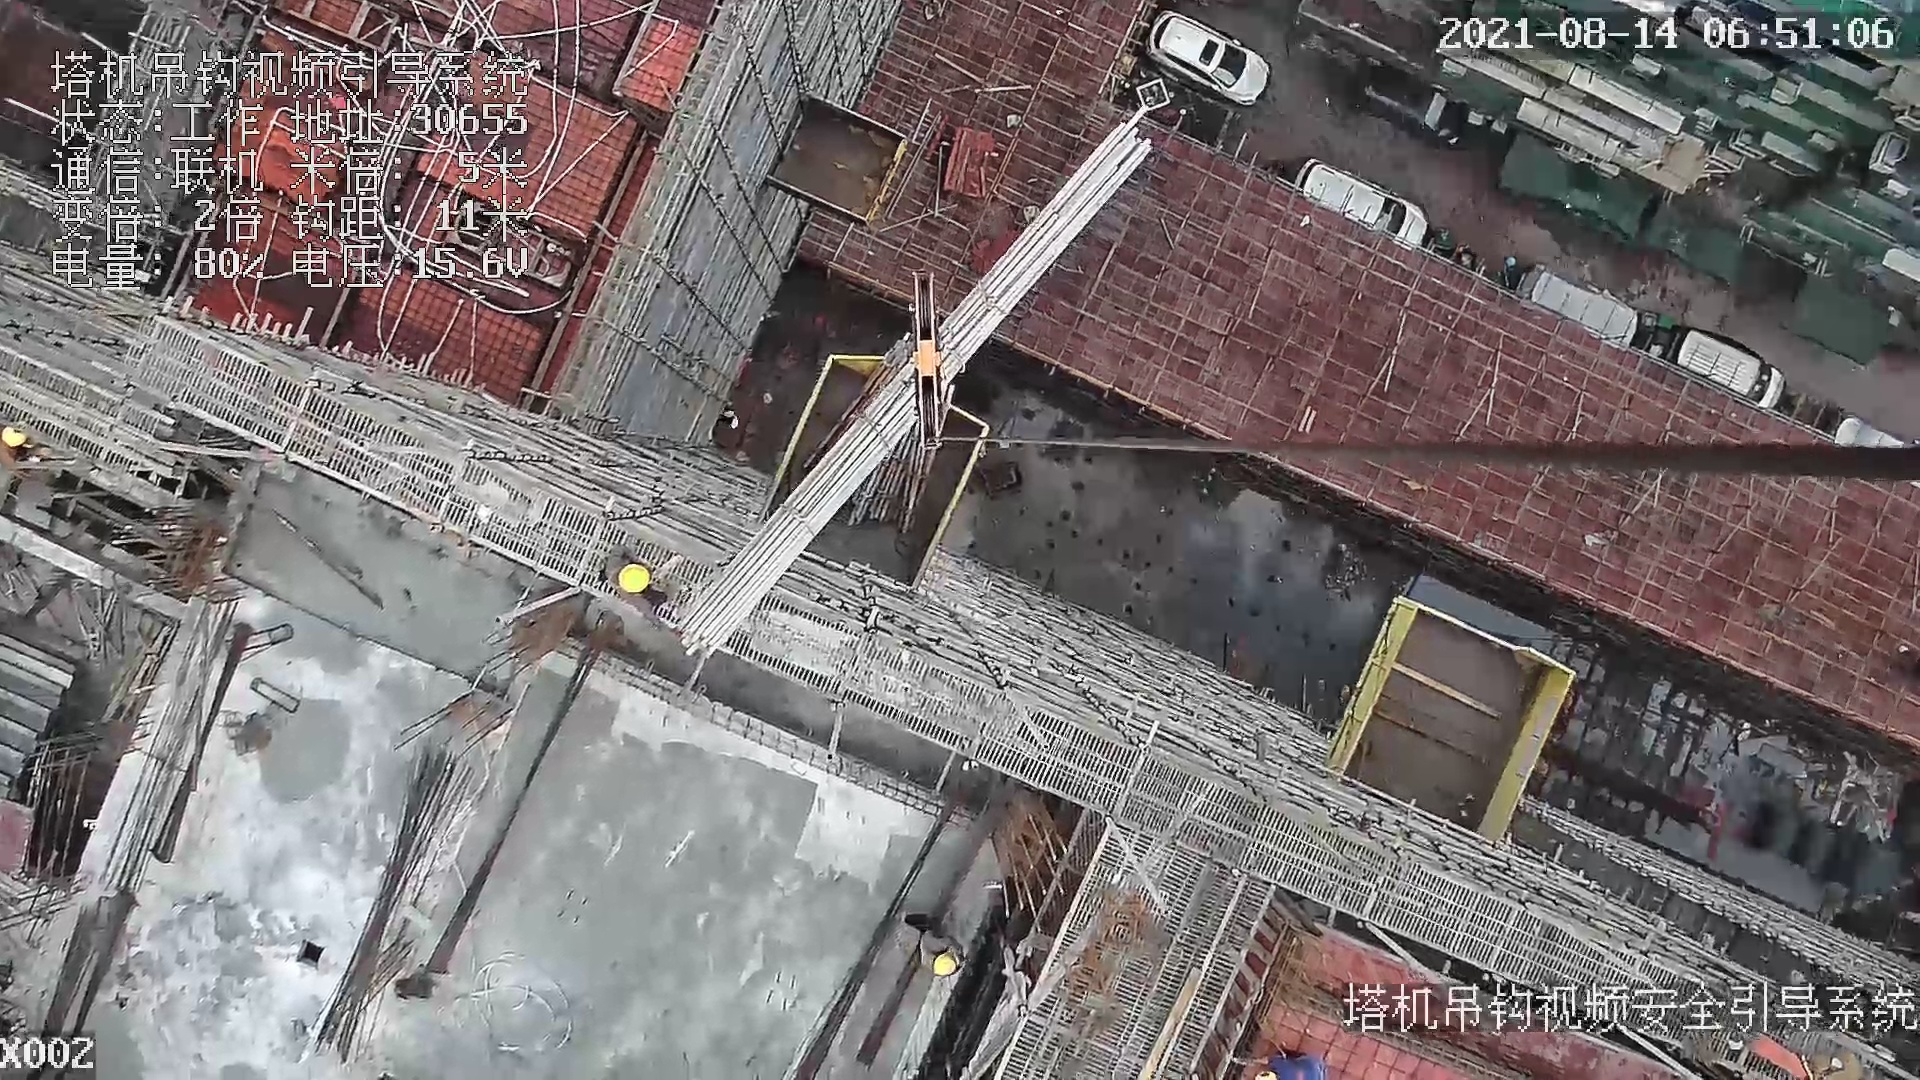helmet: (616, 562, 648, 597), (1, 416, 25, 447), (929, 956, 956, 977)
hook: (904, 264, 950, 456)
person: (594, 540, 669, 622), (899, 901, 968, 976), (1, 422, 40, 477)
rebar: (679, 107, 1154, 654), (313, 735, 463, 1062)
